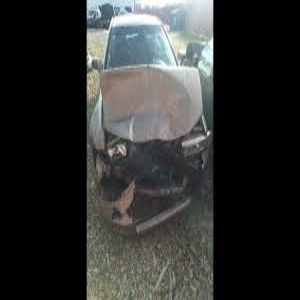bonnet: (100, 61, 205, 143)
bumper: (96, 152, 199, 203)
